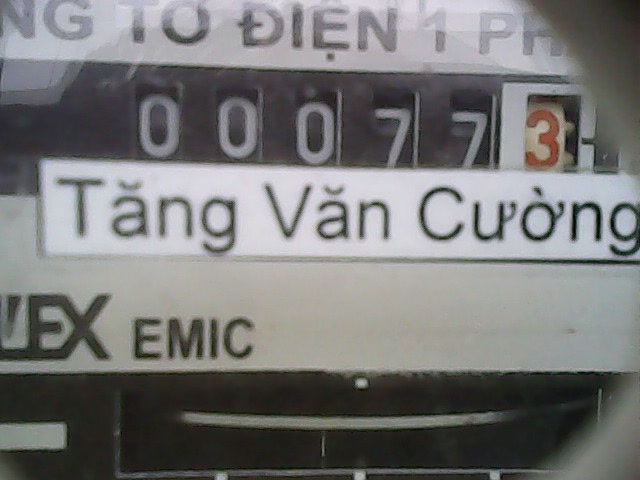phy_plate: (124, 60, 603, 177)
